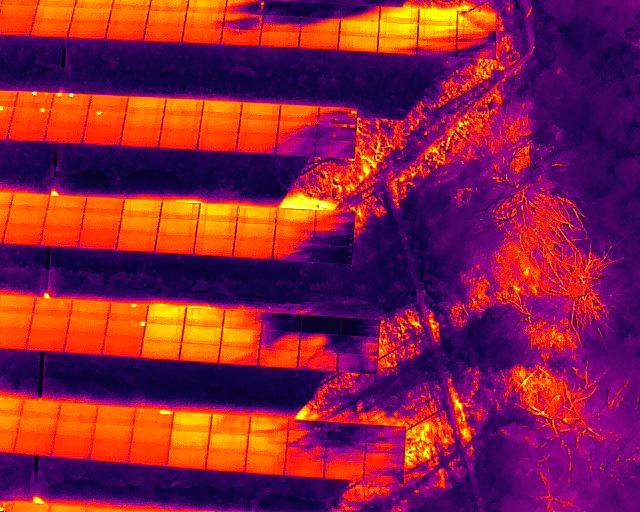Cell: (86, 109, 126, 128), (106, 320, 147, 338), (10, 108, 50, 124), (108, 304, 147, 320), (225, 0, 264, 15)
Cell-Multi: (12, 91, 53, 108), (318, 107, 356, 125), (50, 93, 90, 110), (317, 124, 355, 139)
No-Anomaly: (16, 432, 53, 455), (54, 436, 92, 457), (169, 449, 207, 470), (181, 326, 225, 344), (180, 344, 221, 363), (92, 442, 129, 463), (59, 402, 97, 422), (7, 123, 47, 142), (64, 337, 106, 355), (101, 338, 143, 356), (247, 436, 286, 455), (286, 459, 325, 478), (247, 456, 286, 475), (129, 446, 168, 465), (207, 453, 246, 472), (259, 349, 298, 368), (132, 427, 171, 446), (193, 237, 234, 255), (220, 328, 261, 346), (140, 341, 181, 359), (211, 415, 249, 434), (116, 231, 156, 249), (70, 300, 110, 318), (45, 125, 85, 143), (26, 334, 66, 352), (236, 138, 278, 155), (97, 406, 134, 425), (41, 228, 80, 246), (78, 229, 117, 247), (147, 305, 186, 323), (199, 118, 238, 136), (83, 128, 122, 146), (67, 319, 108, 336), (198, 204, 239, 221), (33, 298, 71, 316), (223, 309, 261, 327), (419, 8, 457, 26), (122, 198, 160, 216), (174, 413, 210, 432), (325, 460, 363, 478), (159, 132, 199, 149), (6, 213, 46, 230), (238, 120, 278, 137), (10, 194, 47, 212), (171, 430, 208, 448), (23, 401, 58, 420), (235, 241, 274, 258), (29, 317, 68, 334), (197, 135, 236, 152), (1, 230, 42, 246), (81, 213, 122, 229), (236, 208, 277, 224), (20, 418, 56, 436), (107, 24, 145, 41), (146, 323, 184, 340), (380, 7, 418, 24), (209, 435, 247, 452), (202, 101, 240, 118), (164, 100, 202, 117), (196, 221, 236, 237), (43, 211, 83, 227), (236, 224, 276, 240), (222, 30, 262, 46), (241, 104, 281, 120), (48, 109, 88, 125), (123, 115, 163, 131), (33, 20, 70, 37), (147, 24, 184, 41), (340, 20, 379, 36), (156, 234, 195, 250), (185, 310, 224, 326), (84, 197, 123, 213), (183, 28, 222, 44), (280, 106, 319, 122), (127, 98, 163, 115), (186, 13, 224, 29), (56, 422, 94, 438), (157, 219, 197, 234), (121, 132, 161, 147), (70, 21, 107, 37), (302, 33, 339, 49), (95, 425, 132, 441), (379, 23, 418, 38), (277, 210, 316, 225), (89, 94, 128, 109), (161, 117, 200, 132), (161, 203, 199, 218), (261, 33, 299, 48), (119, 216, 159, 230), (46, 196, 86, 210), (339, 37, 379, 51), (73, 7, 110, 22), (34, 6, 72, 20), (109, 10, 146, 24), (0, 5, 34, 20), (147, 11, 186, 24), (0, 20, 33, 35)
Shadowing: (364, 461, 404, 482), (364, 443, 405, 462), (287, 421, 328, 440), (299, 333, 339, 352), (287, 441, 328, 459), (338, 353, 379, 371), (366, 424, 404, 443), (250, 417, 288, 436), (316, 139, 356, 157), (219, 347, 260, 364), (315, 244, 353, 262), (262, 313, 300, 331), (327, 442, 365, 460), (329, 424, 367, 442), (278, 122, 316, 140), (274, 243, 314, 260), (300, 316, 340, 333), (340, 319, 379, 336), (224, 13, 263, 30), (299, 352, 338, 369), (260, 332, 299, 349), (274, 226, 315, 242), (339, 336, 380, 352), (457, 12, 495, 29), (458, 43, 496, 60), (276, 140, 316, 156), (301, 18, 340, 34), (262, 16, 301, 32), (264, 0, 303, 16), (341, 5, 380, 21), (315, 227, 353, 243), (377, 40, 417, 55), (418, 42, 458, 57), (418, 26, 458, 41), (458, 28, 496, 43), (316, 211, 353, 226), (303, 3, 340, 18)
Unclassified: (134, 408, 172, 427)
